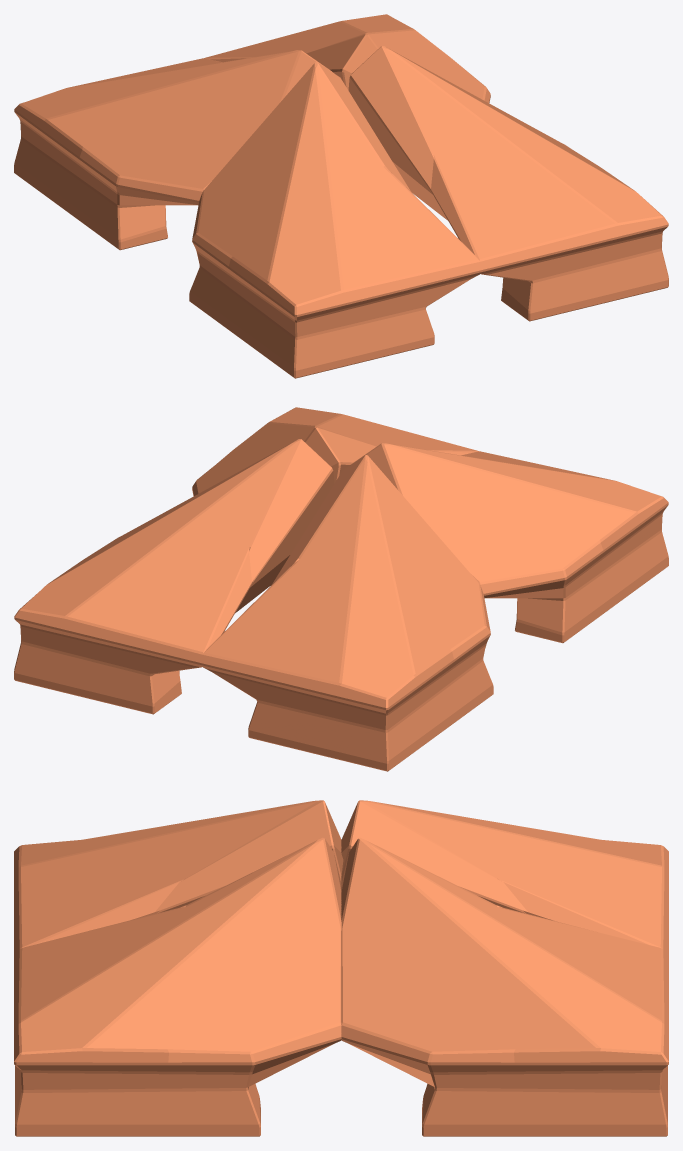
File: House Top.fbx
The picture shows the model from 3 angles, top to bottom: view 1: azimuth 30°, elevation 25°; view 2: azimuth 150°, elevation 25°; view 3: azimuth 270°, elevation 25°; orthographic projection. The views are drawn at different scales.
Parts seen in each view (by area): view 1: Cube.001; view 2: Cube.001; view 3: Cube.001.
Part boxes in pixels (box(x1,y1,x2,y2)): Cube.001: box(14, 14, 668, 378); Cube.001: box(14, 407, 668, 771); Cube.001: box(14, 800, 668, 1136).
Size of the model in its own units: 588 by 273 by 766.
